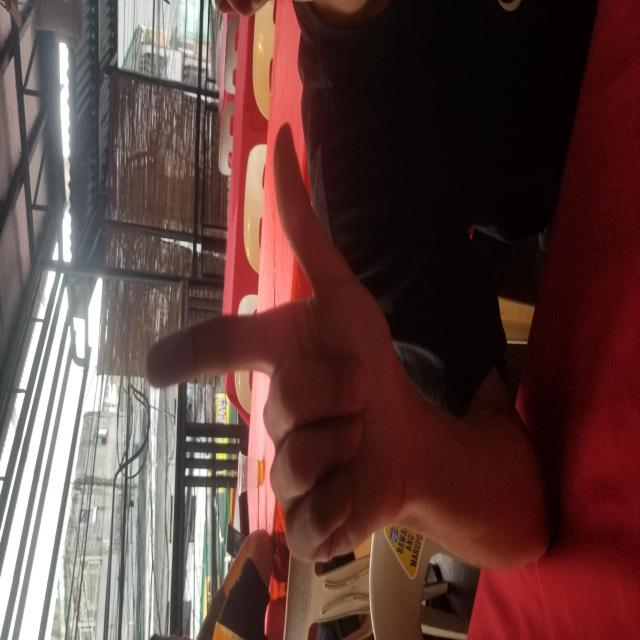L: (70, 142, 524, 412)
